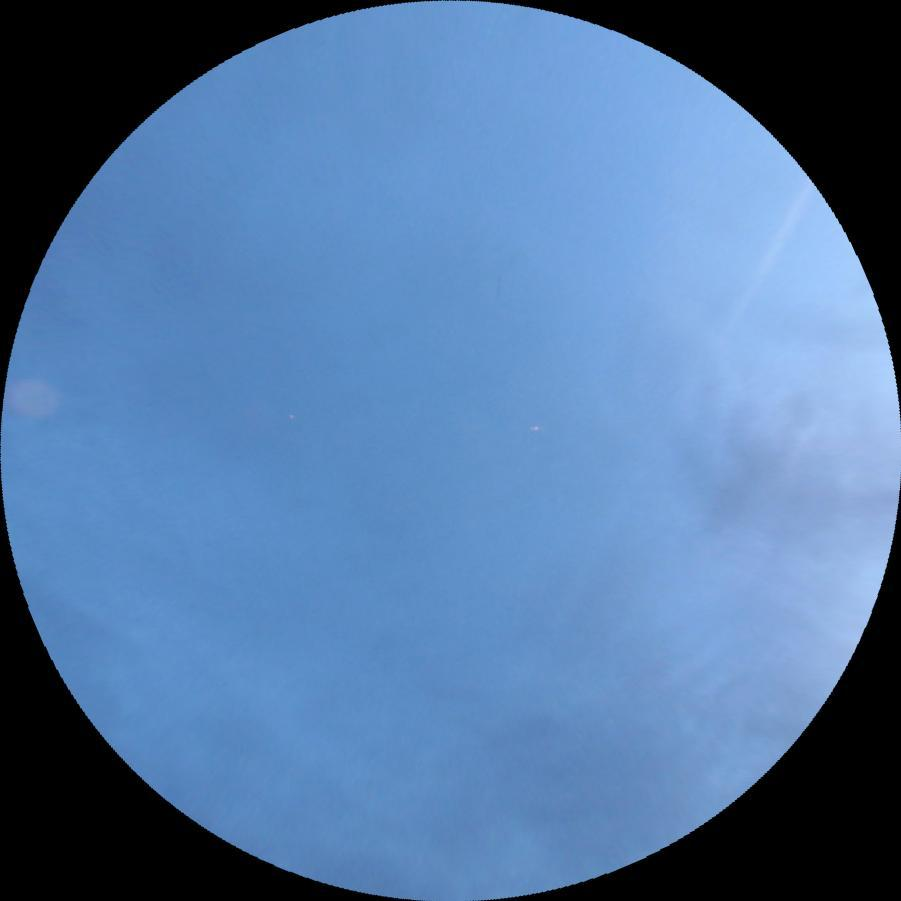contrail old: (532, 177, 821, 632)
